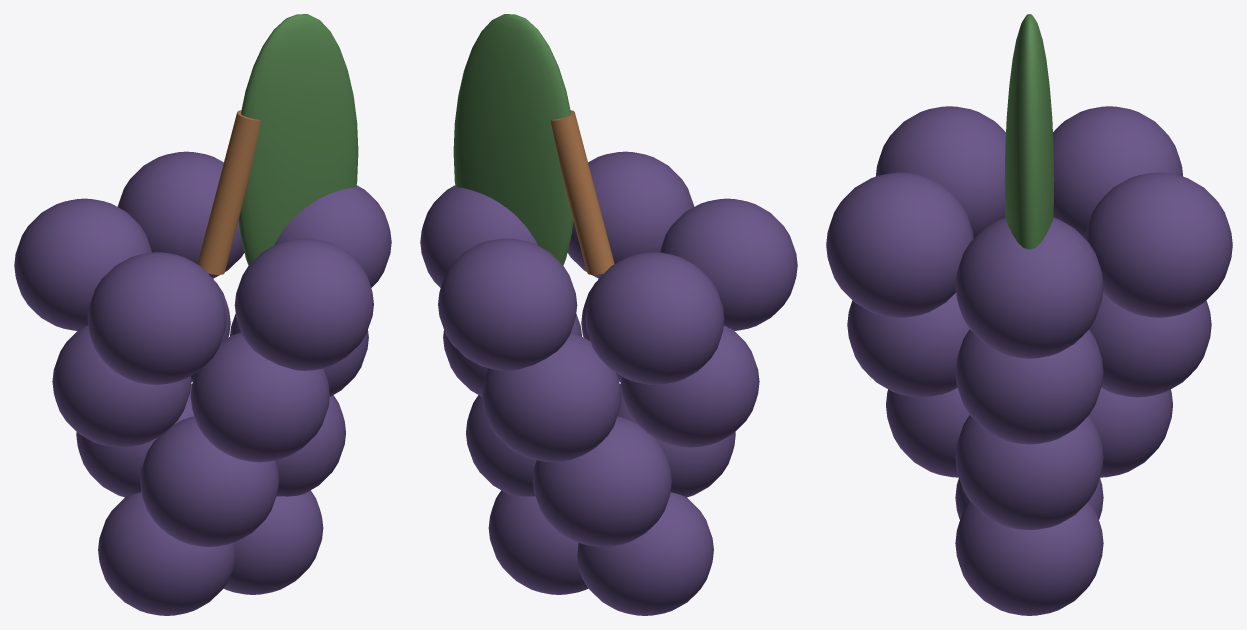
File: wp-grappe-de-raisin.glb
The picture shows the model from 3 angles, left to right: view 1: azimuth 30°, elevation 25°; view 2: azimuth 150°, elevation 25°; view 3: azimuth 270°, elevation 25°; orthographic projection. The views are drawn at different scales.
Visible parts, largest first — view 1: wp-grappe-de-raisin; view 2: wp-grappe-de-raisin; view 3: wp-grappe-de-raisin.
Boxes of the visible parts, x1=… form: wp-grappe-de-raisin: x1=14, y1=14, x2=391, y2=615; wp-grappe-de-raisin: x1=420, y1=14, x2=797, y2=615; wp-grappe-de-raisin: x1=826, y1=14, x2=1232, y2=615.
Size of the model in its own units: 0.12 by 0.2 by 0.12.
